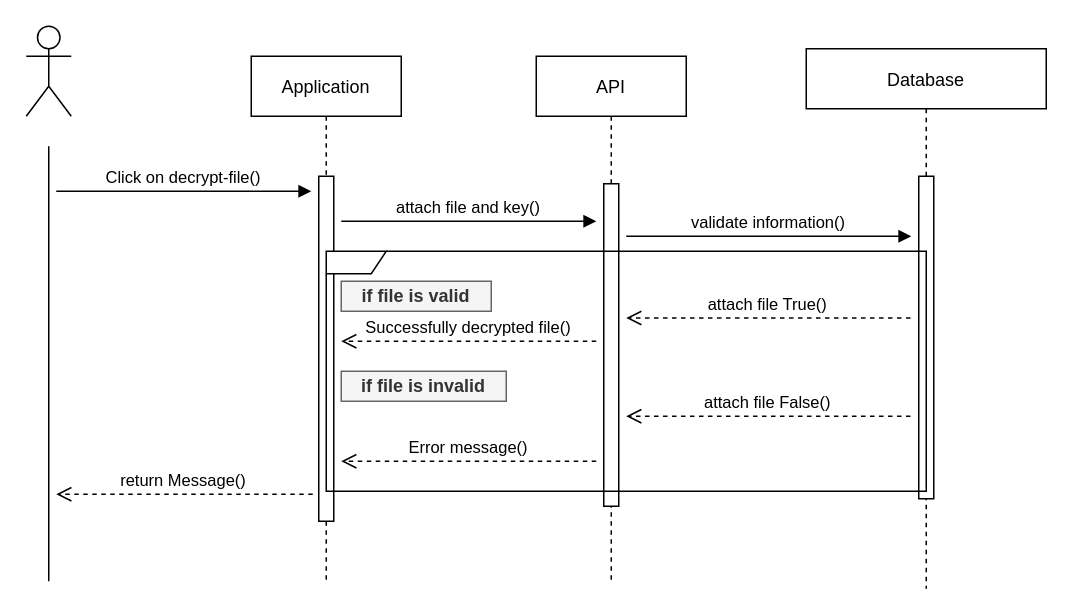
Some shapes in this 1073 by 615 pixel diagram are drawn without their labels. Each missing label, with the centre of its shape:
alt: (x=625, y=370)
User: (x=48, y=70)
